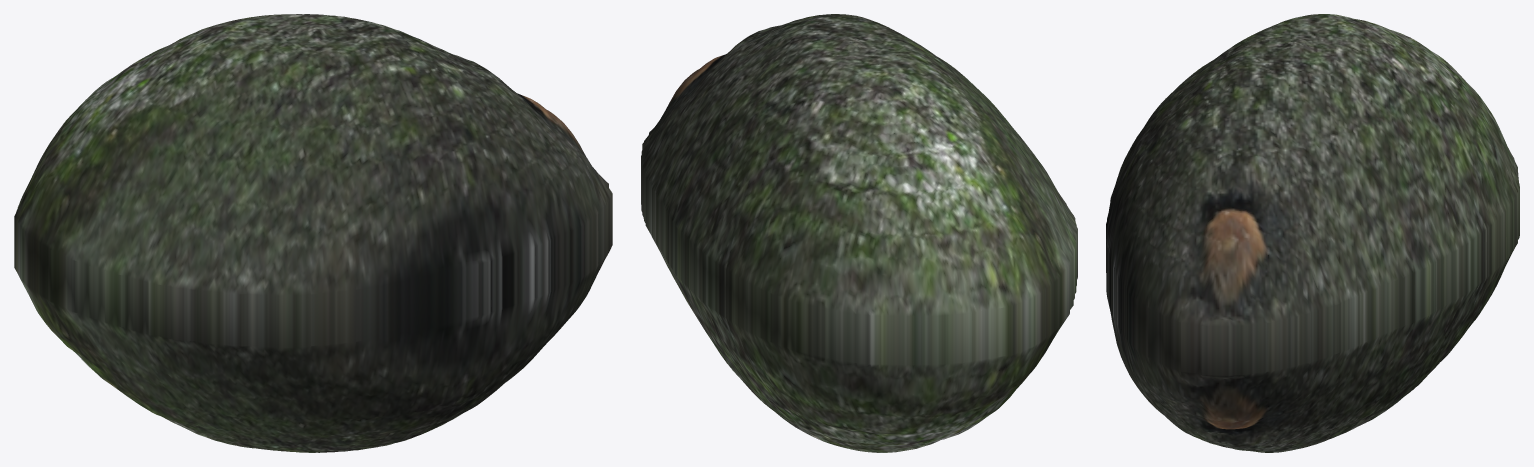
Rendered from avocado_3.obj.
3 views of the same model, side by side, from view 1: azimuth 30°, elevation 25°; view 2: azimuth 150°, elevation 25°; view 3: azimuth 270°, elevation 25° (orthographic). The views are drawn at different scales.
Visible parts, largest first — view 1: Grid; view 2: Grid; view 3: Grid.
Part boxes in pixels (left/top/right/bottom): Grid: left=14, top=14, right=612, bottom=452; Grid: left=641, top=14, right=1077, bottom=452; Grid: left=1106, top=14, right=1519, bottom=452.
Bounding box in the file's own units: 1.99 × 1.59 × 1.54.
1 material, 1 textured.
